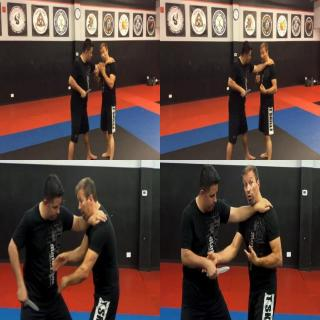knife: (16, 292, 39, 312), (206, 265, 230, 279), (79, 87, 91, 98), (239, 88, 251, 98)
